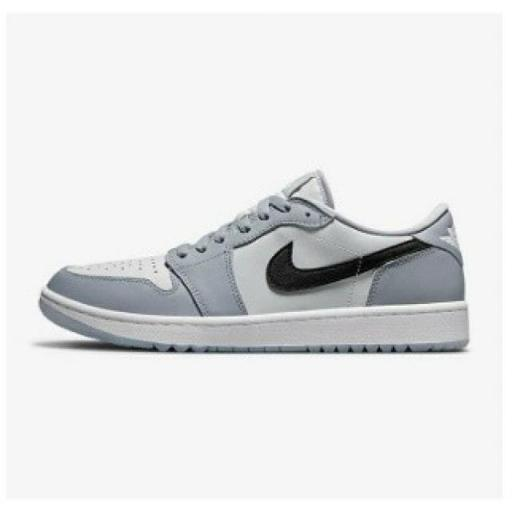Nike: (256, 238, 430, 296)
